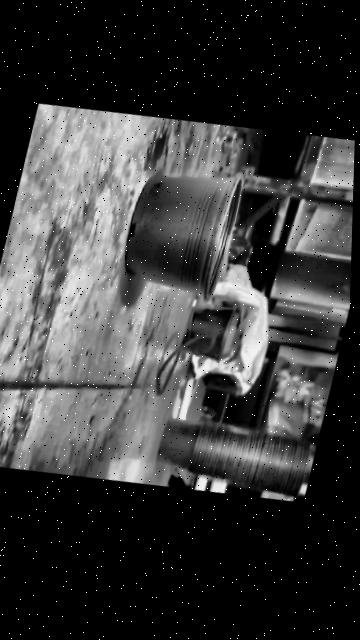pot: (114, 153, 247, 312)
